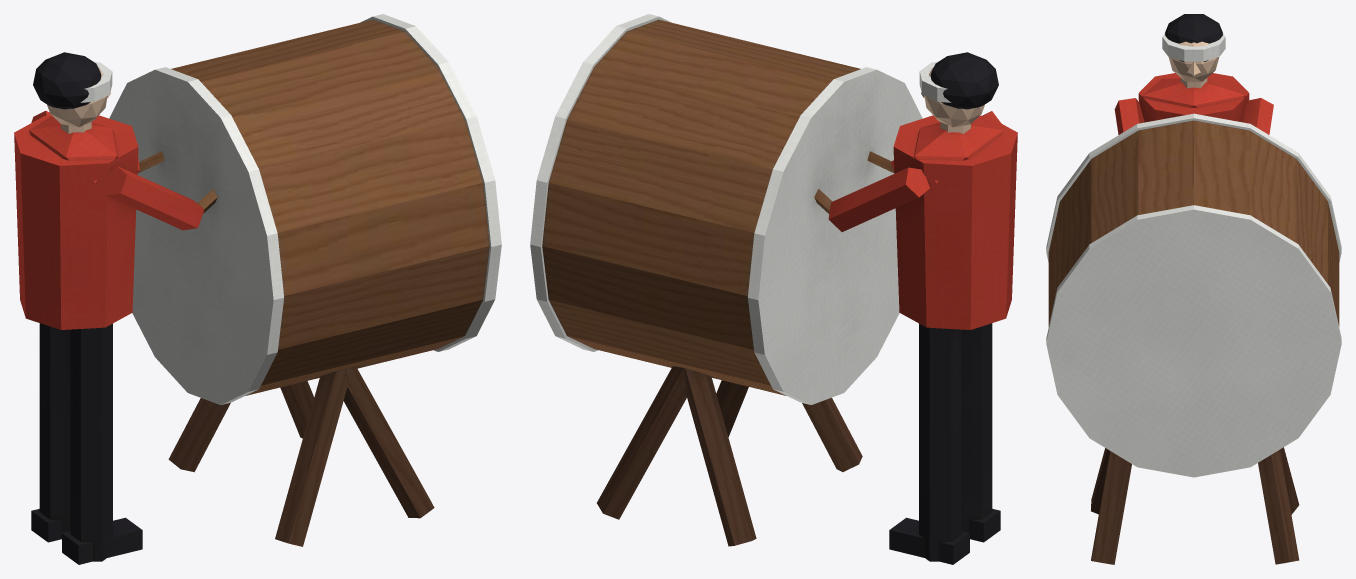
The model's file is taiko_tex.glb.
3 views of the same model, side by side, from view 1: azimuth 30°, elevation 25°; view 2: azimuth 150°, elevation 25°; view 3: azimuth 270°, elevation 25° (orthographic). The views are drawn at different scales.
Visible parts, largest first — view 1: Trumma, ArmV; view 2: Trumma, ArmH; view 3: Trumma, ArmH, ArmV.
Part boxes in pixels (x1,y1,x2,y2): Trumma: (14,14,501,564); ArmV: (103,165,217,230); Trumma: (530,14,1017,564); ArmH: (814,167,929,231); Trumma: (1046,14,1341,564); ArmH: (1243,98,1273,134); ArmV: (1114,98,1144,134).
Bounding box in the file's own units: 1.49 × 1.78 × 1.12.
7 materials, 7 textured.
